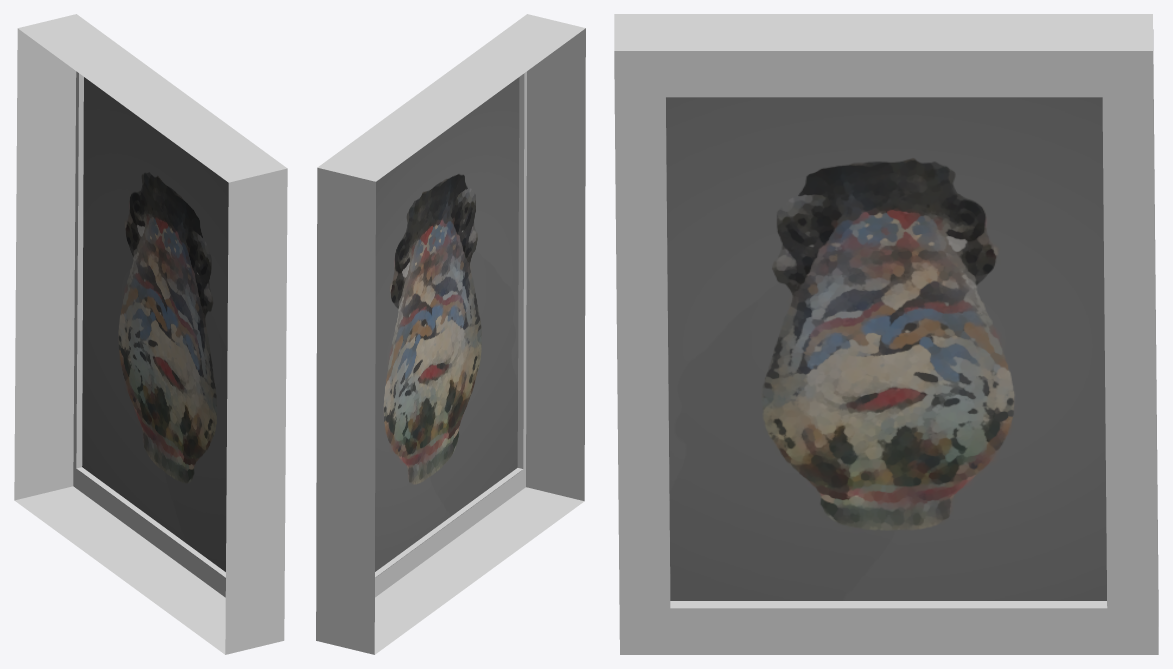
Rendered from painting.fbx.
3 views of the same model, side by side, from view 1: azimuth 30°, elevation 25°; view 2: azimuth 150°, elevation 25°; view 3: azimuth 270°, elevation 25° (orthographic). The views are drawn at different scales.
Parts seen in each view (by area): view 1: Cube.002, painting_filter; view 2: Cube.002, painting_filter; view 3: painting_filter, Cube.002.
Boxes of the visible parts, x1=… form: Cube.002: x1=14, y1=14, x2=287, y2=654; painting_filter: x1=80, y1=77, x2=228, y2=577; Cube.002: x1=316, y1=14, x2=585, y2=654; painting_filter: x1=375, y1=77, x2=521, y2=577; painting_filter: x1=666, y1=97, x2=1106, y2=600; Cube.002: x1=614, y1=14, x2=1158, y2=654.
Bounding box in the file's own units: 15.67 × 118 × 96.53.
Materials: 2 (1 with a texture image).
